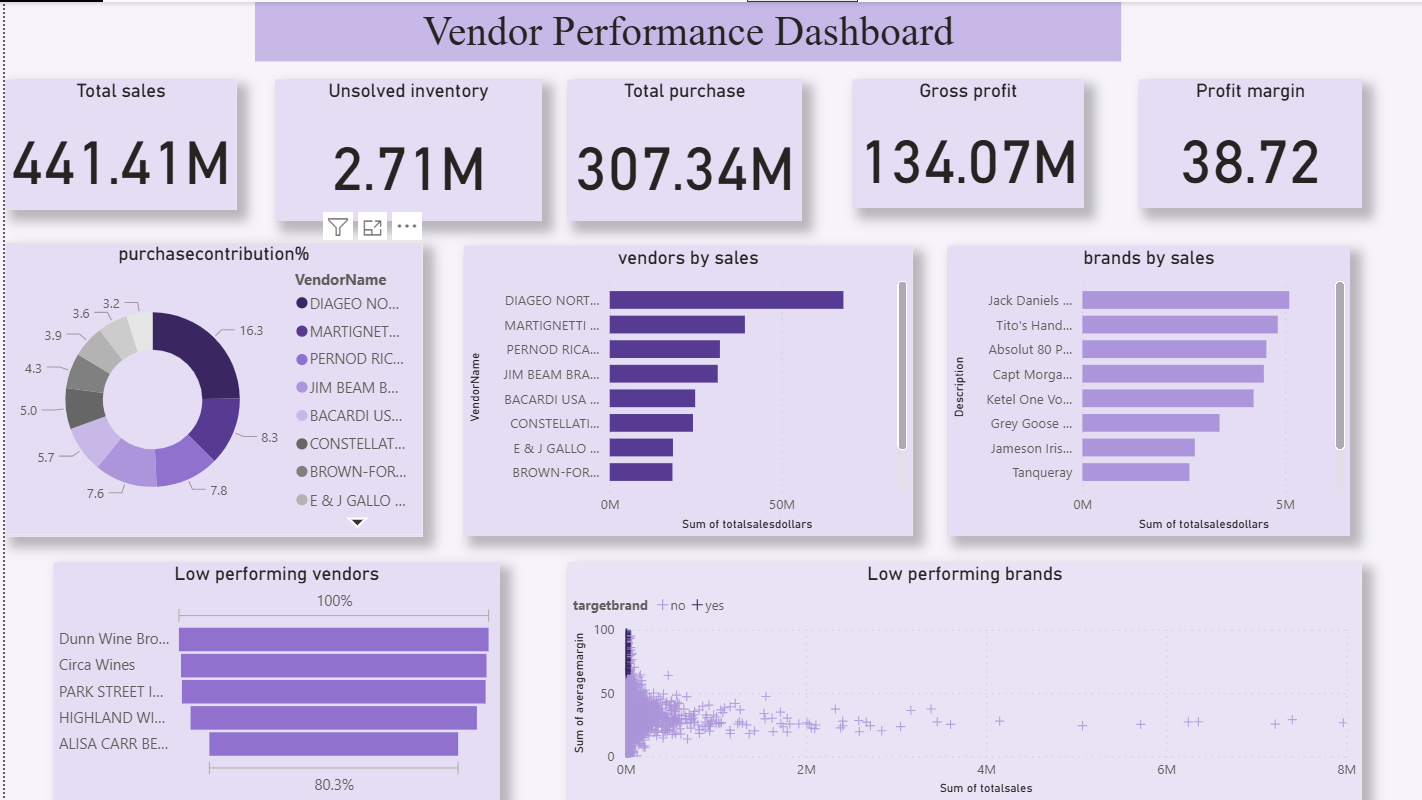

What the dashboard file says about the page in this screenshot:
{"tool":"powerbi","page":{"name":"Page 1","canvas":[1280,720],"ordinal":0},"visuals":[{"type":"card","title":"Total sales","fields":{"Values":["Sum(vendor_performance_analysiss (2).totalsalesdollars)"]},"box":[0,69.7,209,117.4],"z":0},{"type":"card","title":"Total purchase","fields":{"Values":["Sum(vendor_performance_analysiss (2).totalpurchasedollars)"]},"box":[507.3,69.7,211.5,128.4],"z":1},{"type":"card","title":"Gross profit","fields":{"Values":["Sum(vendor_performance_analysiss (2).grossprofit)"]},"box":[764,69.7,209,116.1],"z":2},{"type":"card","title":"Profit margin","fields":{"Values":["Avg(vendor_performance_analysiss (2).profitmargin)"]},"box":[1021.9,69.7,201.7,116.1],"z":3},{"type":"card","title":"Unsolved inventory","fields":{"Values":["Sum(vendor_performance_analysiss (2).unsolvedinventoryvalue)"]},"box":[243.3,69.7,240.8,128.4],"z":4},{"type":"donutChart","title":"purchasecontribution% ","fields":{"Category":["purchasecontribution.VendorName"],"Y":["Sum(purchasecontribution.purchasecontribution%)"]},"box":[0,216.4,376.5,265.3],"z":5},{"type":"barChart","title":"vendors by sales","fields":{"Category":["vendor_performance_analysiss_1.VendorName"],"Y":["Sum(vendor_performance_analysiss_1.totalsalesdollars)"]},"box":[413.2,220,404.6,261.6],"z":6},{"type":"barChart","title":"brands by sales","fields":{"Y":["Sum(vendor_performance_analysiss_1.totalsalesdollars)"],"Category":["vendor_performance_analysiss_1.Description"]},"box":[849.6,220,363.1,261.6],"z":7},{"type":"funnel","title":"Low performing vendors","fields":{"Category":["lowturnovervendor.VendorName"],"Y":["Sum(lowturnovervendor.Avgstockturnover)"]},"box":[44,504.9,402.2,215.1],"z":8},{"type":"scatterChart","title":"Low performing brands","fields":{"Category":["brandperformance.Description"],"X":["Sum(brandperformance.totalsales)"],"Y":["Sum(brandperformance.averagemargin)"],"Series":["brandperformance.targetbrand"]},"box":[507.3,504.9,716.3,215.1],"z":9},{"type":"textbox","box":[224.9,0,781.1,53.8],"z":10}]}

Visuals, with their boxes in screenshot pixels (x1, y1, x2, y2), scaled from the page's 1280x720 canvas onto the 1422x800 screenshot:
"Total sales" card: box=[0, 77, 232, 208]
"Total purchase" card: box=[564, 77, 799, 220]
"Gross profit" card: box=[849, 77, 1081, 206]
"Profit margin" card: box=[1135, 77, 1359, 206]
"Unsolved inventory" card: box=[270, 77, 538, 220]
"purchasecontribution% " donutChart: box=[0, 240, 418, 535]
"vendors by sales" barChart: box=[459, 244, 909, 535]
"brands by sales" barChart: box=[944, 244, 1347, 535]
"Low performing vendors" funnel: box=[49, 561, 496, 799]
"Low performing brands" scatterChart: box=[564, 561, 1359, 799]
textbox: box=[250, 0, 1118, 60]
